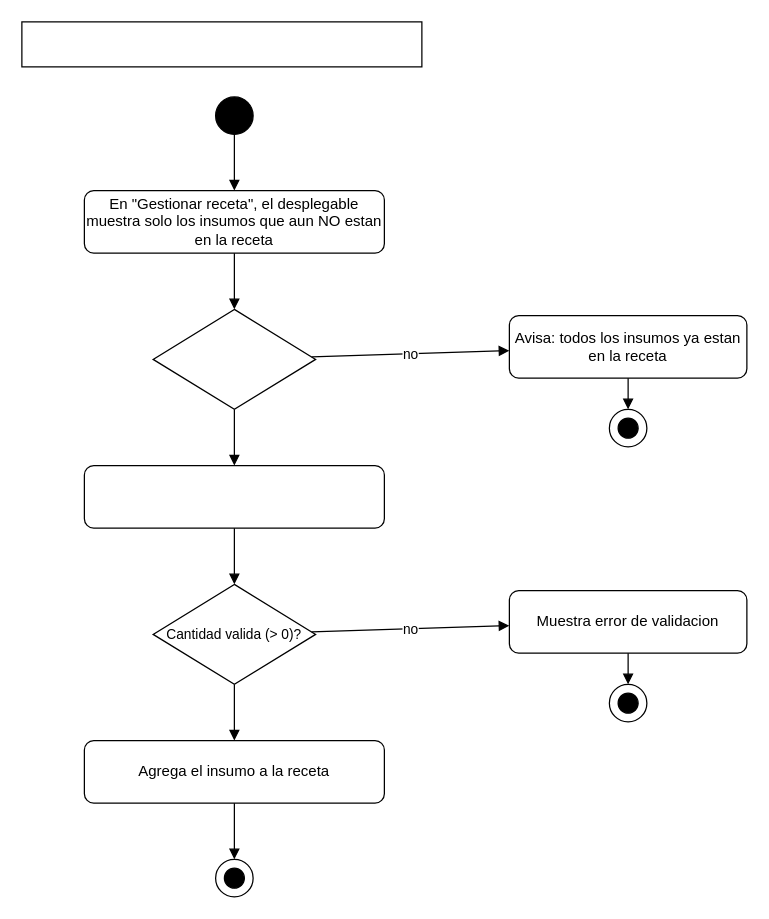
The diagram is 769 pixels wide and 919 high, and some of its shapes have lost their labels. The shapes that lost their labels are listed below. From the top down, each one's centre as x and y in pixels, then its label:
point 221,44: Diagrama de actividad - Agregar Insumo a Receta (CU-10)
point 234,358: Quedan insumos disponibles?
point 233,496: Elige un insumo, ingresa la cantidad y pulsa "Agregar"
